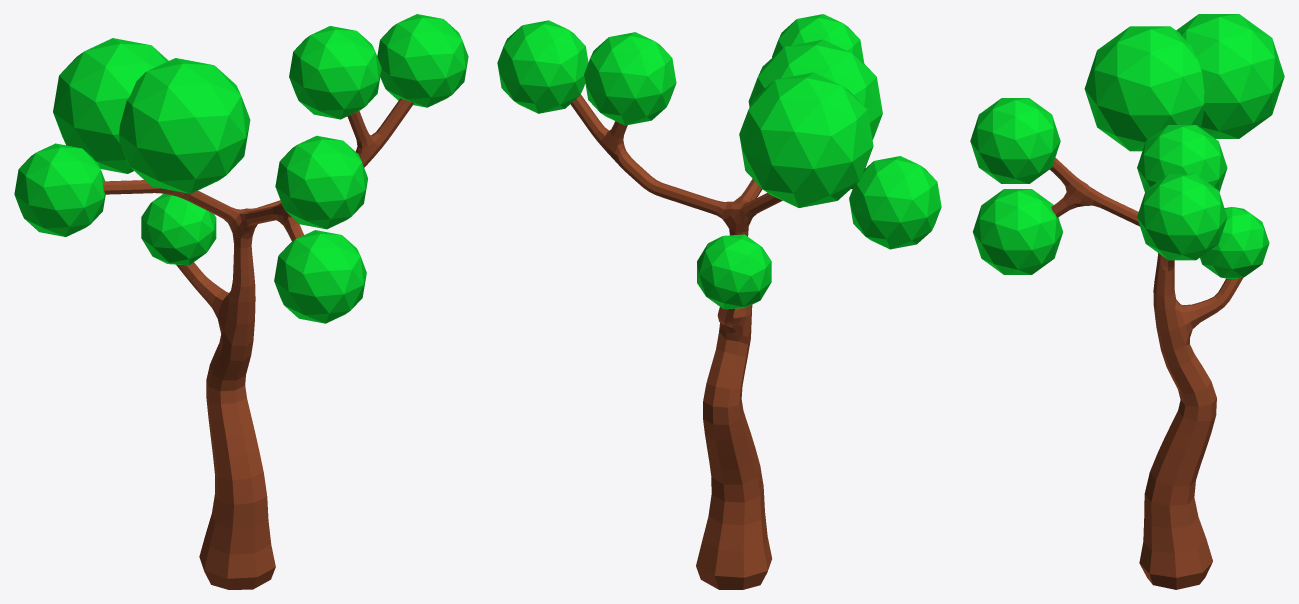
The model's file is prop_tree.glb.
3 renders of one model, left to right at view 1: azimuth 30°, elevation 25°; view 2: azimuth 150°, elevation 25°; view 3: azimuth 270°, elevation 25°, orthographic. The views are drawn at different scales.
Parts seen in each view (by area): view 1: leaf, tree; view 2: leaf, tree; view 3: leaf, tree.
Boxes of the visible parts, <box> form: leaf: <box>14,14,468,323</box>; tree: <box>103,98,413,589</box>; leaf: <box>497,14,941,309</box>; tree: <box>570,94,853,589</box>; leaf: <box>970,14,1284,278</box>; tree: <box>1050,158,1242,589</box>.
Bounding box in the file's own units: 11.84 × 14.22 × 7.77.
